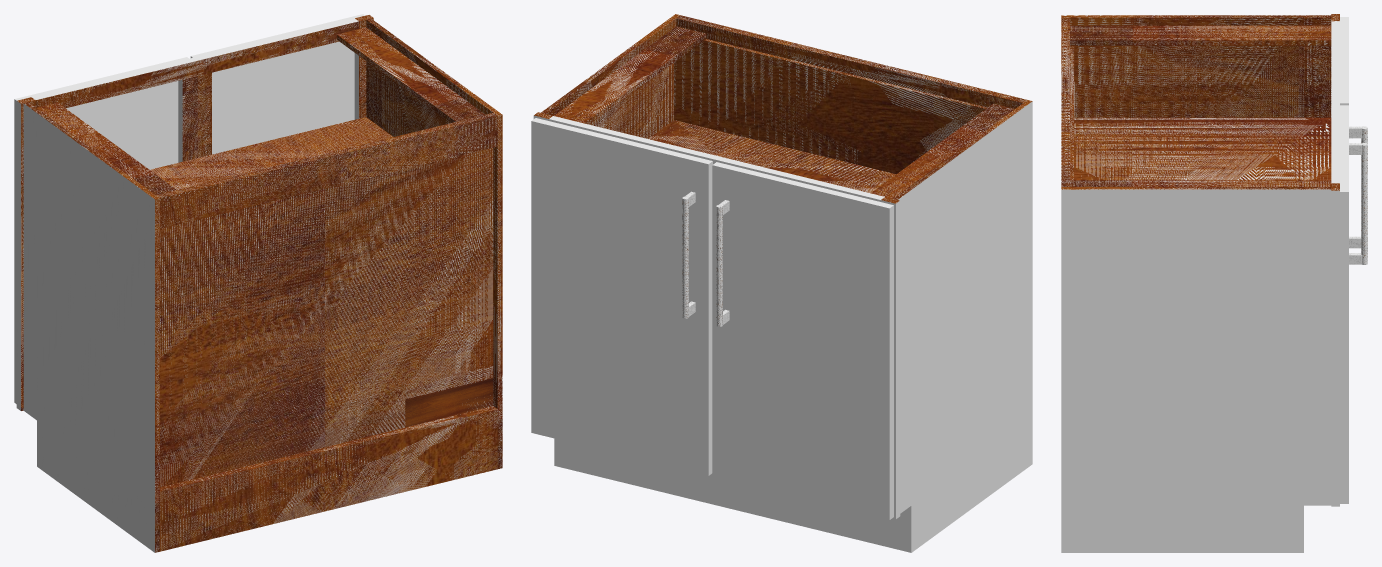
The picture shows the model from 3 angles, left to right: view 1: azimuth 30°, elevation 25°; view 2: azimuth 150°, elevation 25°; view 3: azimuth 270°, elevation 25°; orthographic projection. The views are drawn at different scales.
Parts seen in each view (by area): view 1: mesh5_mesh5-geometry, mesh8_mesh8-geometry, mesh14_mesh14-geometry, mesh18_mesh18-geometry, mesh4_mesh4-geometry, mesh22_mesh22-geometry, mesh11_mesh11-geometry, mesh6_mesh6-geometry, mesh1_mesh1-geometry, mesh9_mesh9-geometry, mesh7_mesh7-geometry, mesh16_mesh16-geometry (+5 smaller); view 2: mesh22_mesh22-geometry, mesh18_mesh18-geometry, mesh8_mesh8-geometry, mesh5_mesh5-geometry, mesh15_mesh15-geometry, mesh9_mesh9-geometry, mesh4_mesh4-geometry, mesh1_mesh1-geometry, mesh11_mesh11-geometry, mesh16_mesh16-geometry, mesh7_mesh7-geometry, mesh17_mesh17-geometry (+3 smaller); view 3: mesh11_mesh11-geometry, mesh8_mesh8-geometry, mesh1_mesh1-geometry, mesh12_mesh12-geometry, mesh10_mesh10-geometry, mesh17_mesh17-geometry, mesh18_mesh18-geometry, mesh3_mesh3-geometry, mesh7_mesh7-geometry, mesh16_mesh16-geometry, mesh4_mesh4-geometry, mesh6_mesh6-geometry (+3 smaller).
Part boxes in pixels (<box>): mesh5_mesh5-geometry: <box>160,148,493,487</box>; mesh8_mesh8-geometry: <box>37,112,159,506</box>; mesh14_mesh14-geometry: <box>160,406,497,551</box>; mesh18_mesh18-geometry: <box>190,14,364,154</box>; mesh4_mesh4-geometry: <box>156,112,497,228</box>; mesh22_mesh22-geometry: <box>14,57,188,403</box>; mesh11_mesh11-geometry: <box>379,28,502,422</box>; mesh6_mesh6-geometry: <box>32,18,358,108</box>; mesh1_mesh1-geometry: <box>150,117,392,189</box>; mesh9_mesh9-geometry: <box>37,421,159,552</box>; mesh7_mesh7-geometry: <box>23,102,41,420</box>; mesh16_mesh16-geometry: <box>337,27,484,122</box>; mesh22_mesh22-geometry: <box>712,162,893,520</box>; mesh18_mesh18-geometry: <box>531,118,712,475</box>; mesh8_mesh8-geometry: <box>907,100,1032,505</box>; mesh5_mesh5-geometry: <box>674,39,987,174</box>; mesh15_mesh15-geometry: <box>559,439,906,551</box>; mesh9_mesh9-geometry: <box>906,417,1032,552</box>; mesh4_mesh4-geometry: <box>676,15,1026,108</box>; mesh1_mesh1-geometry: <box>648,120,895,193</box>; mesh11_mesh11-geometry: <box>554,14,680,138</box>; mesh16_mesh16-geometry: <box>554,26,706,124</box>; mesh7_mesh7-geometry: <box>893,188,911,513</box>; mesh17_mesh17-geometry: <box>871,103,1014,198</box>; mesh11_mesh11-geometry: <box>1061,187,1303,505</box>; mesh8_mesh8-geometry: <box>1061,15,1303,117</box>; mesh1_mesh1-geometry: <box>1074,117,1331,180</box>; mesh12_mesh12-geometry: <box>1061,505,1303,552</box>; mesh10_mesh10-geometry: <box>1304,187,1331,505</box>; mesh17_mesh17-geometry: <box>1070,25,1331,45</box>; mesh18_mesh18-geometry: <box>1340,105,1348,503</box>; mesh3_mesh3-geometry: <box>1331,14,1339,506</box>; mesh7_mesh7-geometry: <box>1304,15,1331,117</box>; mesh16_mesh16-geometry: <box>1070,180,1331,186</box>; mesh4_mesh4-geometry: <box>1061,17,1069,186</box>; mesh6_mesh6-geometry: <box>1331,21,1339,183</box>.
Size of the model in its own units: 0.6382 by 0.6116 by 0.4676.
